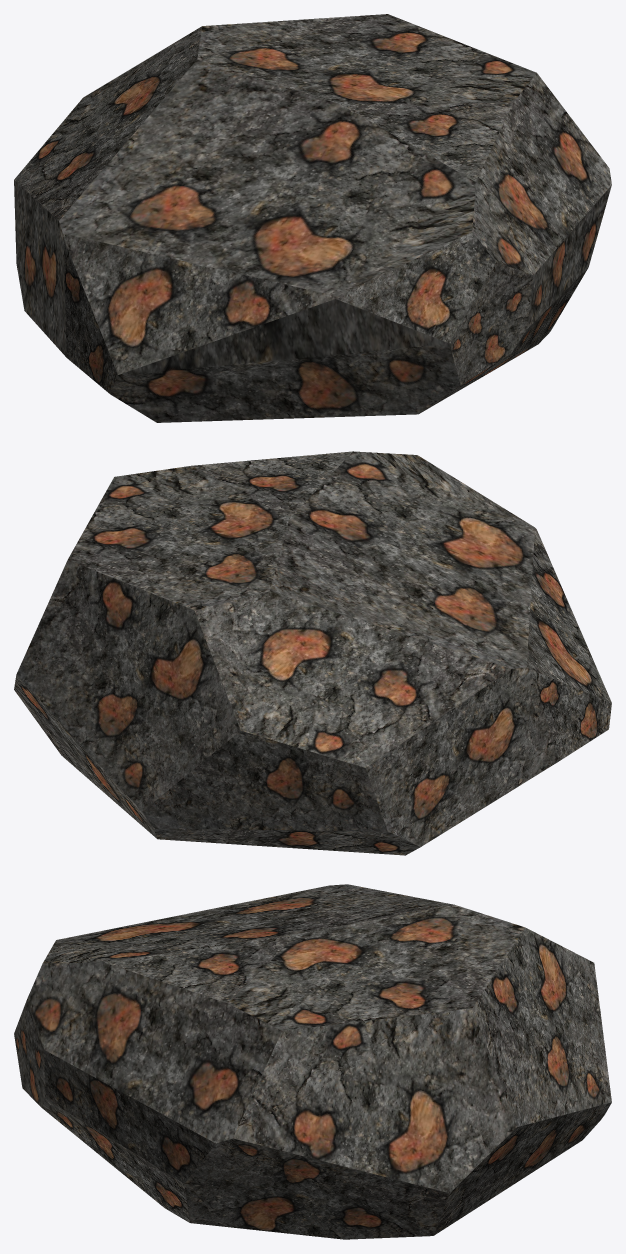
The model's file is iron_ore_2.fbx.
3 views of the same model, one above another, from view 1: azimuth 30°, elevation 25°; view 2: azimuth 150°, elevation 25°; view 3: azimuth 270°, elevation 25° (orthographic). The views are drawn at different scales.
Visible parts, largest first — view 1: Rock_Type2_02_mesh; view 2: Rock_Type2_02_mesh; view 3: Rock_Type2_02_mesh.
Boxes of the visible parts, x1,y1,x2,y2 form: Rock_Type2_02_mesh: (14, 14, 611, 422); Rock_Type2_02_mesh: (14, 451, 611, 855); Rock_Type2_02_mesh: (14, 884, 611, 1239).
Size of the model in its own units: 1.34 by 0.5994 by 1.39.
